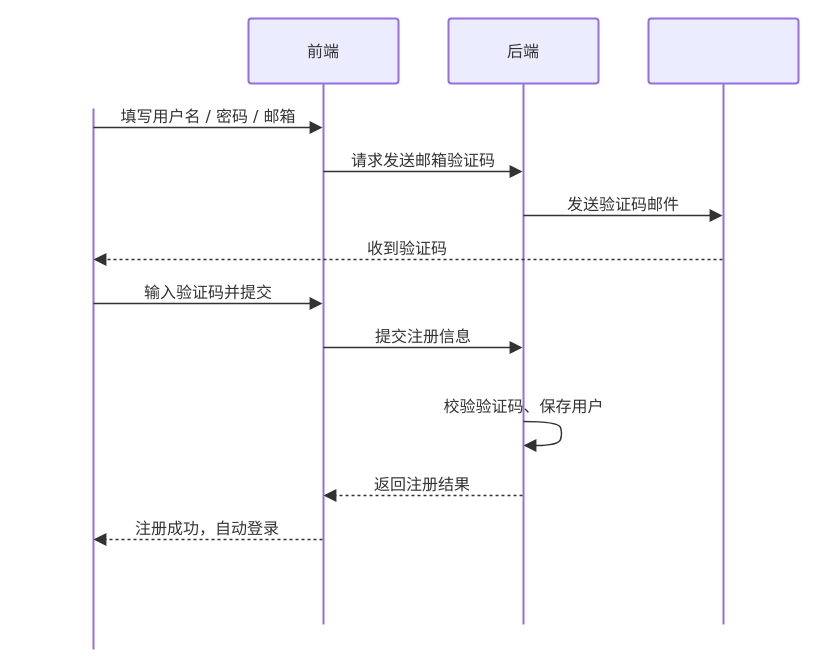
Some shapes in this 816 by 667 pixel diagram are drawn without their labels. Here are the shapes that lost their labels. From the top down, the box of each, then its label:
(17, 17, 169, 650): 用户
(647, 17, 799, 625): 邮件服务器
